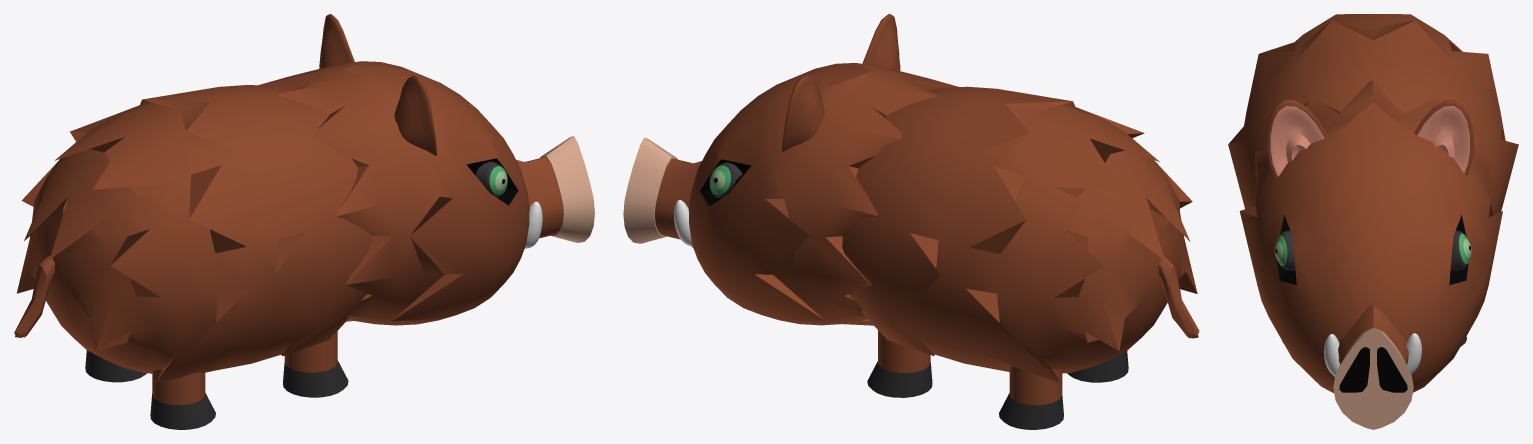
File: Jabali.fbx
3 renders of one model, left to right at view 1: azimuth 30°, elevation 25°; view 2: azimuth 150°, elevation 25°; view 3: azimuth 270°, elevation 25°, orthographic. The views are drawn at different scales.
Parts seen in each view (by area): view 1: polySurface27; view 2: polySurface27; view 3: polySurface27.
Boxes of the visible parts, bbox=[...] form: polySurface27: bbox=[14, 14, 594, 429]; polySurface27: bbox=[623, 14, 1199, 429]; polySurface27: bbox=[1228, 14, 1518, 429].
Size of the model in its own units: 12.31 by 6.18 by 5.78.
